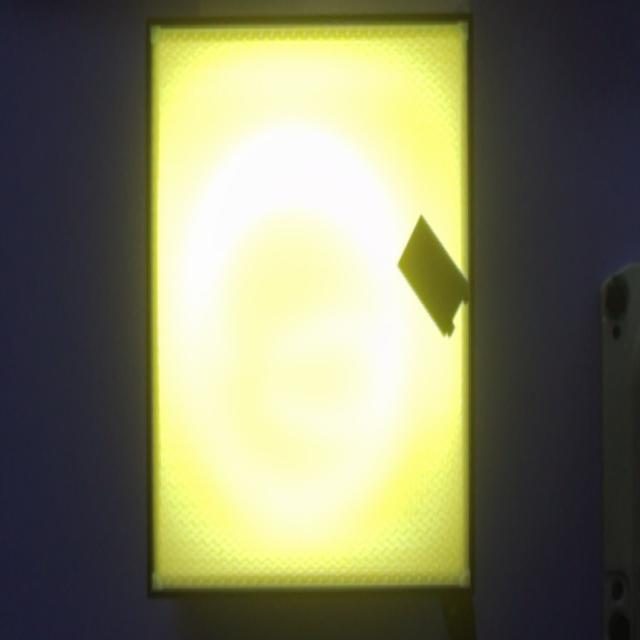bateria: (396, 214, 470, 338)
mesa: (146, 13, 474, 600)
